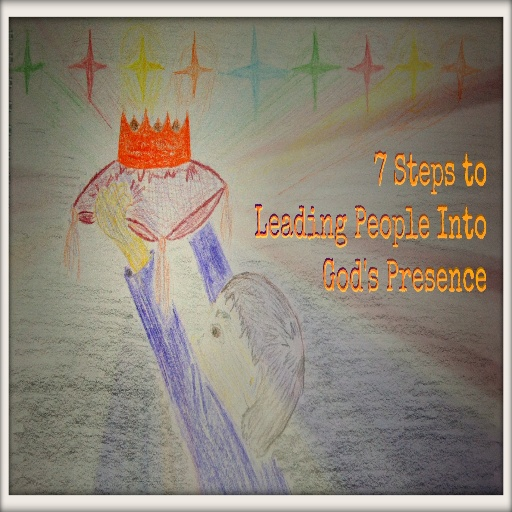hand: (94, 176, 130, 243)
